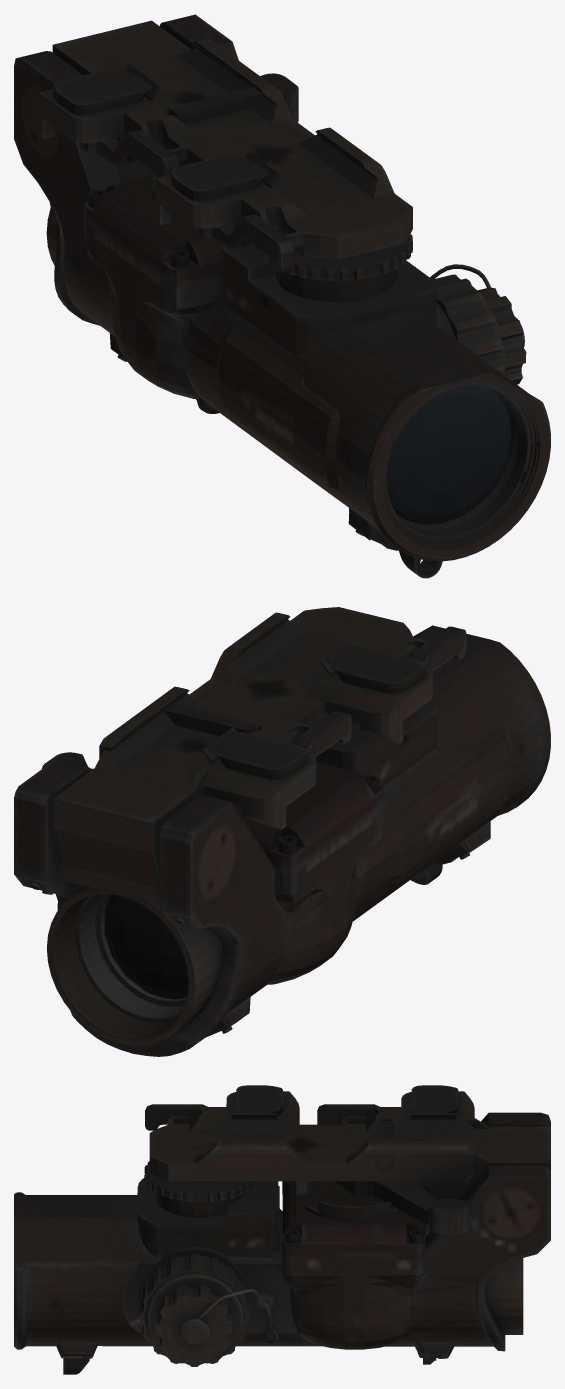
3 views of the same model, one above another, from view 1: azimuth 30°, elevation 25°; view 2: azimuth 150°, elevation 25°; view 3: azimuth 270°, elevation 25° (orthographic). The views are drawn at different scales.
Parts seen in each view (by area): view 1: TW_57aca93d2459771f2c7e26db_PZ_Import; view 2: TW_57aca93d2459771f2c7e26db_PZ_Import; view 3: TW_57aca93d2459771f2c7e26db_PZ_Import.
Part boxes in pixels (x1=…): TW_57aca93d2459771f2c7e26db_PZ_Import: x1=14, y1=14, x2=550, y2=578; TW_57aca93d2459771f2c7e26db_PZ_Import: x1=14, y1=607, x2=550, y2=1056; TW_57aca93d2459771f2c7e26db_PZ_Import: x1=14, y1=1085, x2=550, y2=1374.
Size of the model in its own units: 0.0417 by 0.0874 by 0.0443.
1 material, 1 textured.
